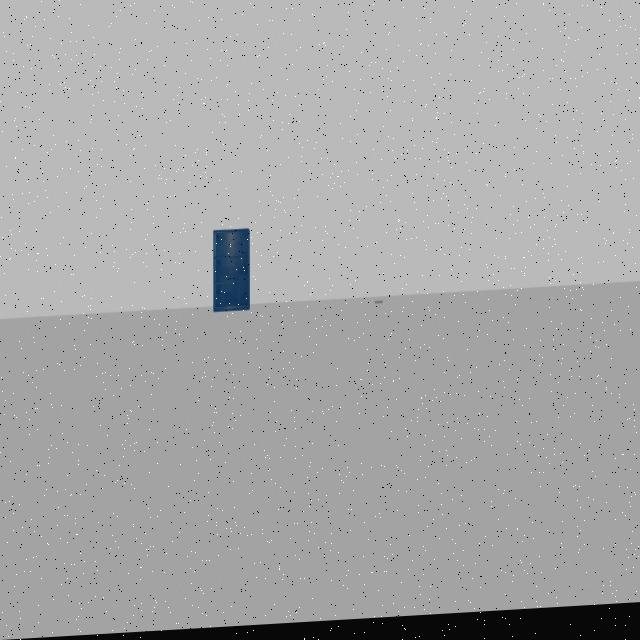bowl: (368, 300, 389, 315)
shelf: (208, 224, 258, 321)
